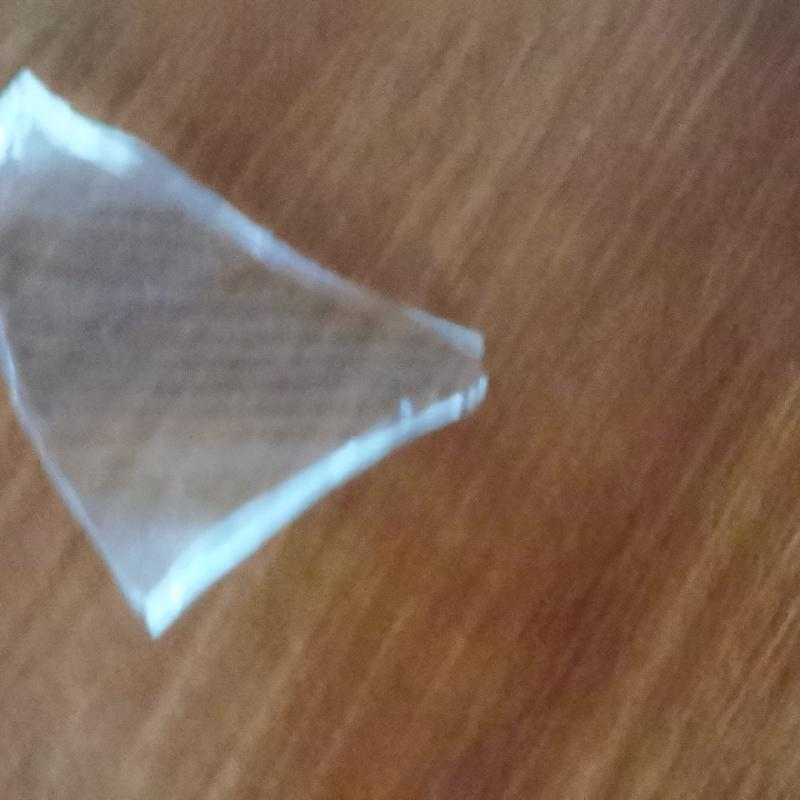glass: (3, 152, 493, 644)
